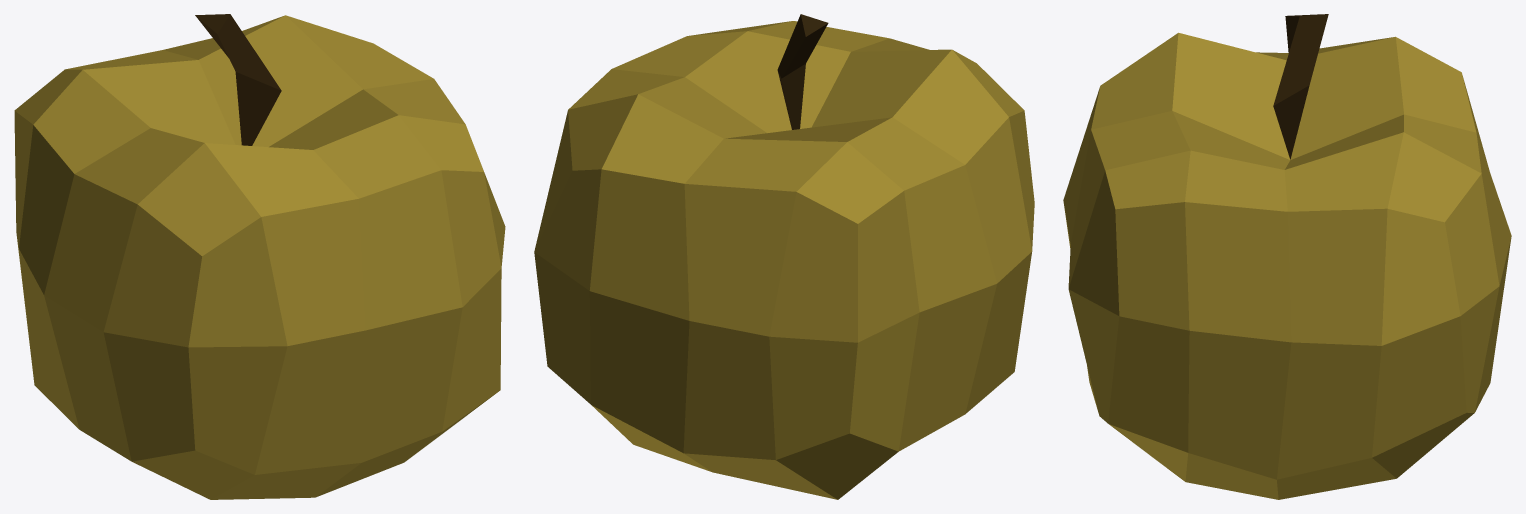
Rendered from apple.fbx.
3 renders of one model, left to right at view 1: azimuth 30°, elevation 25°; view 2: azimuth 150°, elevation 25°; view 3: azimuth 270°, elevation 25°, orthographic. The views are drawn at different scales.
Visible parts, largest first — view 1: Cube; view 2: Cube; view 3: Cube.
Part boxes in pixels (left/top/right/bottom): Cube: left=14, top=14, right=505, bottom=499; Cube: left=534, top=14, right=1034, bottom=499; Cube: left=1063, top=14, right=1511, bottom=499.
Bounding box in the file's own units: 224 × 231 × 222.
